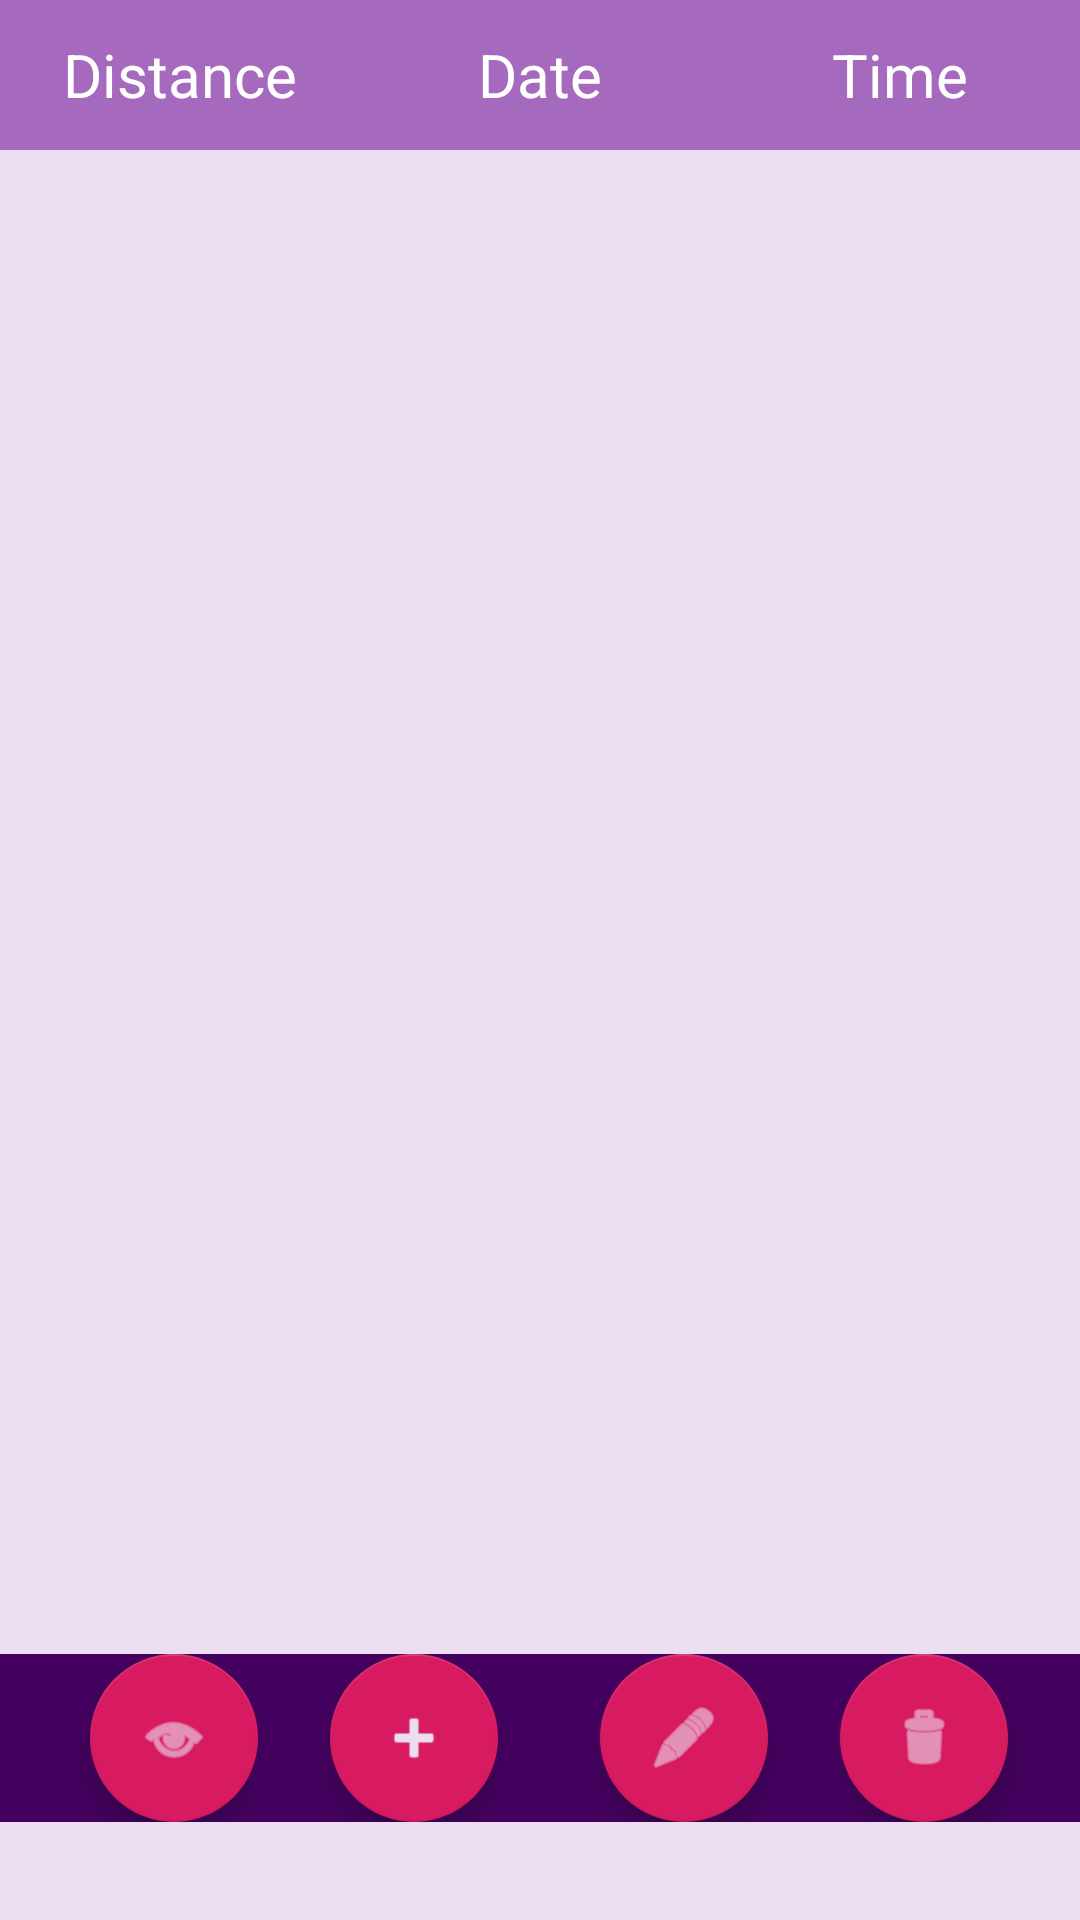

Icon click points for this 1080*1920 phone screenshot, format point (x, y):
add: point (414, 1738)
delete: point (924, 1738)
edit: point (684, 1738)
view: point (174, 1738)
